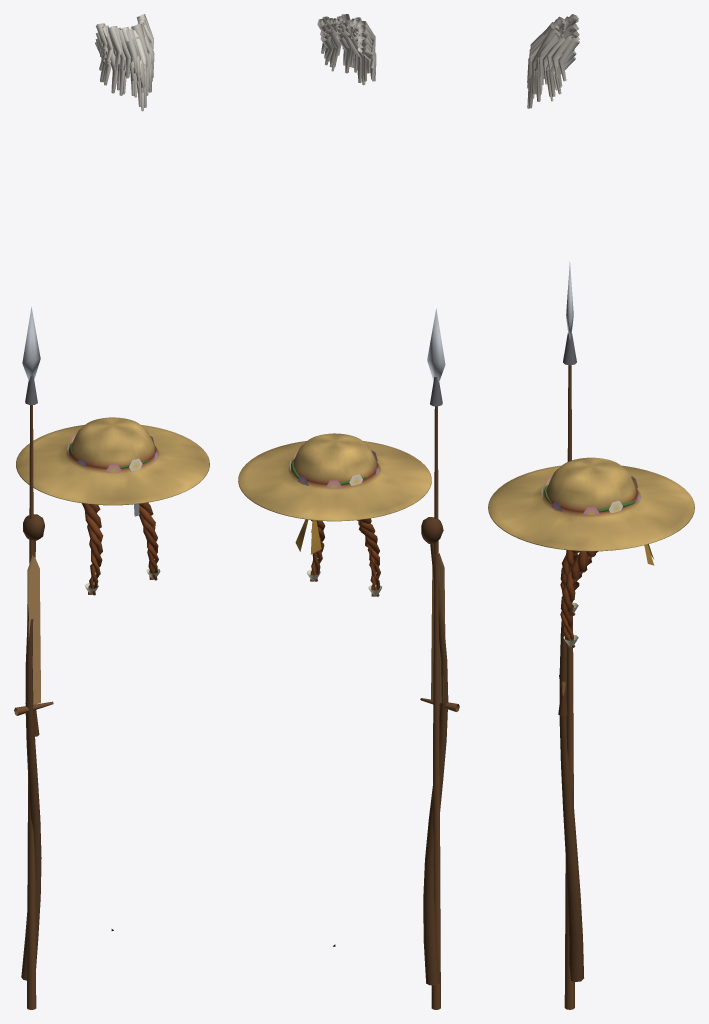
File: npcs.glb
The picture shows the model from 3 angles, left to right: view 1: azimuth 30°, elevation 25°; view 2: azimuth 150°, elevation 25°; view 3: azimuth 270°, elevation 25°; orthographic projection. The views are drawn at different scales.
Visible parts, largest first — view 1: prop_straw_hat, prop_beard, prop_spear, prop_staff, prop_braids, prop_toy_sword, prop_flower_crown; view 2: prop_straw_hat, prop_spear, prop_staff, prop_beard, prop_braids, prop_toy_sword; view 3: prop_straw_hat, prop_staff, prop_beard, prop_spear, prop_braids, prop_flower_crown.
Boxes of the visible parts, x1,y1,x2,y2 form: prop_straw_hat: [16, 417, 209, 505]; prop_beard: [95, 14, 154, 111]; prop_spear: [22, 306, 40, 1009]; prop_staff: [21, 514, 44, 980]; prop_braids: [82, 502, 160, 595]; prop_toy_sword: [14, 555, 53, 736]; prop_flower_crown: [67, 434, 157, 472]; prop_straw_hat: [238, 433, 431, 521]; prop_spear: [427, 308, 445, 1009]; prop_staff: [421, 517, 448, 985]; prop_beard: [317, 14, 376, 85]; prop_braids: [307, 518, 381, 596]; prop_toy_sword: [420, 553, 459, 714]; prop_straw_hat: [488, 457, 694, 551]; prop_staff: [559, 550, 583, 982]; prop_beard: [527, 14, 579, 108]; prop_spear: [563, 261, 576, 1009]; prop_braids: [560, 550, 598, 647]; prop_flower_crown: [541, 476, 640, 514].
Bounding box in the file's own units: 0.7375 × 3.51 × 0.6395.
Materials: 17 (11 with a texture image).
